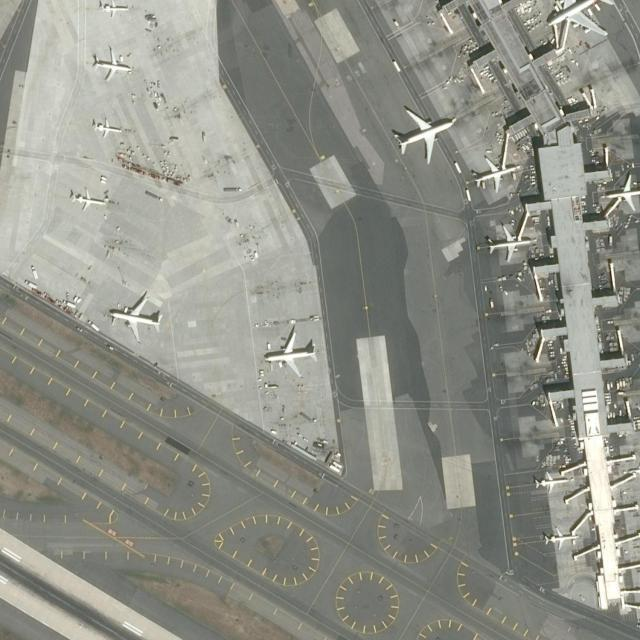Aircraft: (389, 106, 454, 164), (540, 0, 615, 39), (107, 293, 164, 343), (264, 328, 318, 378), (485, 221, 533, 263), (470, 155, 520, 193), (601, 172, 640, 212), (90, 48, 130, 80), (69, 185, 107, 211), (90, 115, 124, 139), (535, 470, 566, 496), (544, 527, 579, 549), (96, 1, 129, 17), (627, 458, 640, 480)
